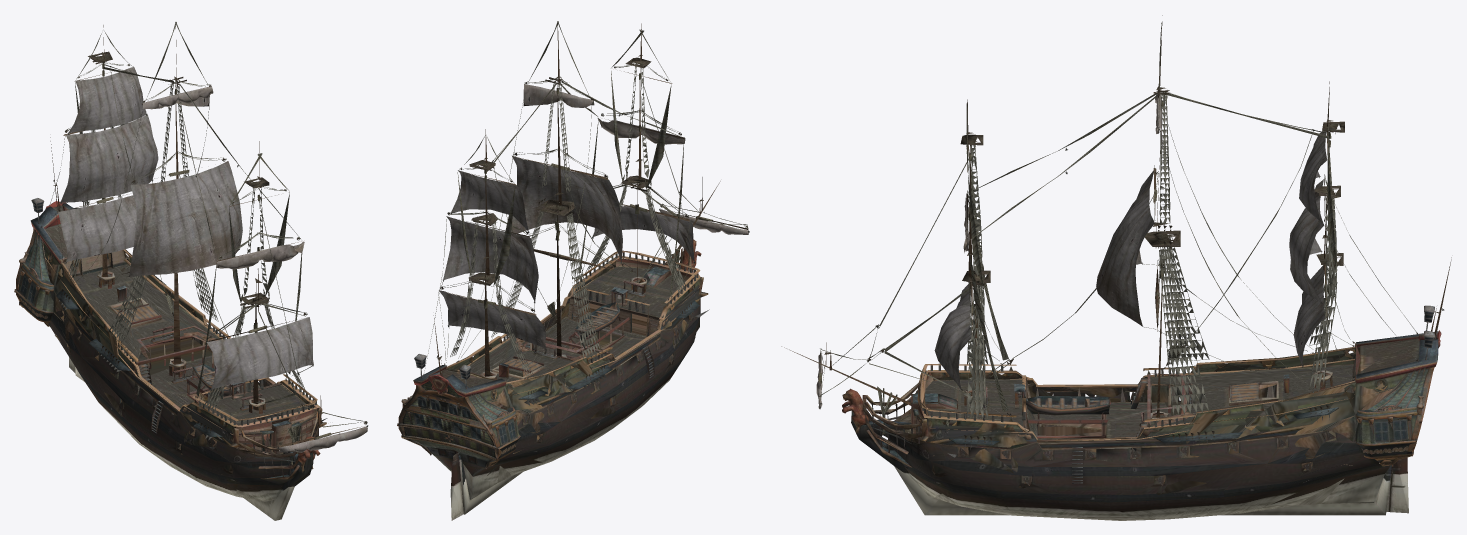
The model's file is boat.glb.
3 renders of one model, left to right at view 1: azimuth 30°, elevation 25°; view 2: azimuth 150°, elevation 25°; view 3: azimuth 270°, elevation 25°, orthographic. The views are drawn at different scales.
Parts seen in each view (by area): view 1: ship_pinnace_sails baked, ship_pinnace_hull baked, ship_pinnace_deck baked, ship_pinnace_rigging baked, ship_pinnace_interior baked, ship_pinnace_details baked, ship_pinnace_aft baked; view 2: ship_pinnace_hull baked, ship_pinnace_sails baked, ship_pinnace_rigging baked, ship_pinnace_deck baked, ship_pinnace_aft baked, ship_pinnace_interior baked, ship_pinnace_details baked; view 3: ship_pinnace_hull baked, ship_pinnace_rigging baked, ship_pinnace_deck baked, ship_pinnace_interior baked, ship_pinnace_sails baked, ship_pinnace_aft baked, ship_pinnace_details baked.
Boxes of the visible parts, box(x1,y1,x2,y2) form: ship_pinnace_sails baked: box(58, 67, 367, 452); ship_pinnace_hull baked: box(43, 241, 326, 520); ship_pinnace_deck baked: box(45, 205, 317, 457); ship_pinnace_rigging baked: box(40, 22, 368, 464); ship_pinnace_interior baked: box(27, 253, 317, 492); ship_pinnace_details baked: box(31, 198, 320, 472); ship_pinnace_aft baked: box(14, 201, 129, 326); ship_pinnace_hull baked: box(412, 248, 708, 520); ship_pinnace_sails baked: box(439, 84, 748, 348); ship_pinnace_rigging baked: box(423, 21, 749, 405); ship_pinnace_deck baked: box(441, 252, 698, 399); ship_pinnace_aft baked: box(397, 365, 520, 468); ship_pinnace_interior baked: box(407, 261, 699, 475); ship_pinnace_details baked: box(414, 239, 701, 389); ship_pinnace_hull baked: box(851, 343, 1408, 520); ship_pinnace_rigging baked: box(781, 15, 1451, 457); ship_pinnace_deck baked: box(897, 335, 1437, 458); ship_pinnace_interior baked: box(890, 347, 1406, 494); ship_pinnace_sails baked: box(816, 89, 1326, 409); ship_pinnace_aft baked: box(1355, 330, 1441, 466); ship_pinnace_details baked: box(842, 305, 1434, 483).
Bounding box in the file's own units: 9.49 × 32.39 × 39.64.
7 materials, 7 textured.
